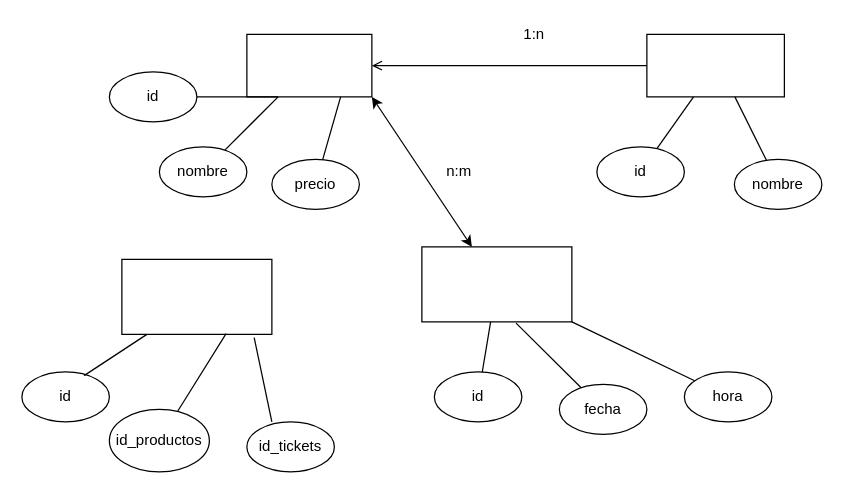
This 844x494 diagram has some shape labels left out. Here are the shapes that lost their labels. From the top down, the centre of each, then its label:
At (309,65): "productos".
At (715,65): "categorias".
At (196,296): "tickets_productos".
At (496,284): "tickets".
